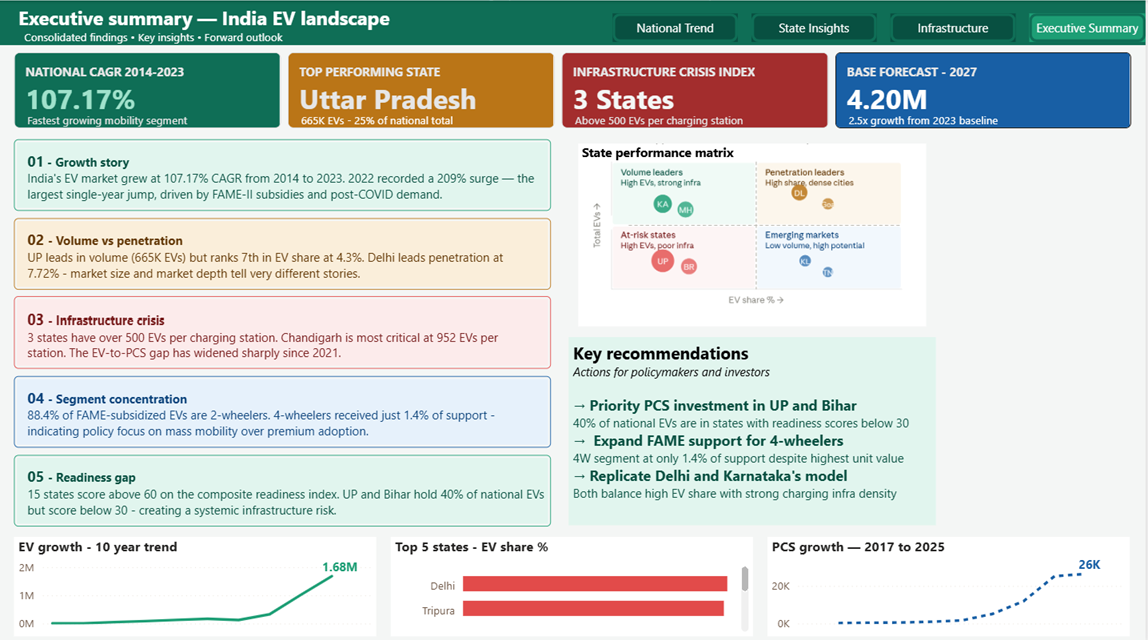

The dashboard page shown, as its layout file describes it:
{"tool":"powerbi","page":{"name":"Executive Summary","canvas":[1280,720],"ordinal":3},"visuals":[{"type":"shape","box":[0,0,1280,50],"z":0},{"type":"textbox","box":[16,0,880,80],"z":1000},{"type":"actionButton","box":[685,14,140,32],"z":2000},{"type":"actionButton","box":[840,14,140,32],"z":3000},{"type":"actionButton","box":[995,14,140,32],"z":4000},{"type":"actionButton","box":[1150,14,130,32],"z":5000},{"type":"cardVisual","fields":{"Data":["Year-wise EV Registrations.EV CAGR %"]},"box":[16,58,298,85],"z":6000},{"type":"textbox","box":[26,120,288,50],"z":7000},{"type":"cardVisual","fields":{"Data":["EV Share %.Top EV State"]},"box":[322,58,298,85],"z":8000},{"type":"cardVisual","fields":{"Data":["EV Share %.Critical Overload States"]},"box":[628,58,298,85],"z":9000},{"type":"textbox","box":[332,120,216,40],"z":10000},{"type":"textbox","box":[638,120,224,48],"z":11000},{"type":"cardVisual","fields":{"Data":["Forecast_Scenarios.Forecast Base 2027"]},"box":[934,58,330,85],"z":12000},{"type":"textbox","box":[944,120,200,32],"z":13000},{"type":"shape","box":[16,155,600,80],"z":14000},{"type":"textbox","box":[26,163,580,80],"z":15000},{"type":"shape","box":[16,243,600,80],"z":16000},{"type":"textbox","box":[26,251,580,72],"z":17000},{"type":"shape","box":[16,331,600,80],"z":18000},{"type":"textbox","box":[26,339,580,75],"z":19000},{"type":"shape","box":[16,419,600,80],"z":20000},{"type":"textbox","box":[26,427,580,72],"z":21000},{"type":"shape","box":[16,507,600,80],"z":22000},{"type":"textbox","box":[26,515,592,80],"z":23000},{"type":"image","box":[512,155,656,208],"z":24000},{"type":"textbox","box":[645,155,624,32],"z":25000},{"type":"textbox","box":[635,375,410,210],"z":26000},{"type":"textbox","box":[22,27,336,48],"z":27000},{"type":"lineChart","title":"EV growth - 10 year trend","fields":{"Category":["Year-wise EV Registrations.Year"],"Y":["Year-wise EV Registrations.Total EVs"]},"box":[16,599,405,111],"z":28000},{"type":"clusteredBarChart","title":"Top 5 states - EV share %","fields":{"Category":["EV Share %.State"],"Y":["Sum(EV Share %.EV_Share_Percent)"]},"box":[437,599,405,111],"z":29000},{"type":"lineChart","title":"PCS growth — 2017 to 2025","fields":{"Category":["Year-wise EVPCS.Year"],"Y":["Sum(Year-wise EVPCS.PCS_Total)"]},"box":[858,599,405,111],"z":30000},{"type":"textbox","box":[1200,615,80,48],"z":31000},{"type":"textbox","box":[355,618,80,48],"z":32000}]}

Visuals, with their boxes in screenshot pixels (x1, y1, x2, y2), scaled from the page's 1280x720 canvas onto the 1148x640 screenshot:
shape: <bbox>0, 0, 1147, 44</bbox>
textbox: <bbox>14, 0, 804, 71</bbox>
actionButton: <bbox>614, 12, 740, 41</bbox>
actionButton: <bbox>753, 12, 879, 41</bbox>
actionButton: <bbox>892, 12, 1018, 41</bbox>
actionButton: <bbox>1031, 12, 1147, 41</bbox>
cardVisual - Year-wise EV Registrations.EV CAGR %: <bbox>14, 52, 282, 127</bbox>
textbox: <bbox>23, 107, 282, 151</bbox>
cardVisual - EV Share %.Top EV State: <bbox>289, 52, 556, 127</bbox>
cardVisual - EV Share %.Critical Overload States: <bbox>563, 52, 831, 127</bbox>
textbox: <bbox>298, 107, 491, 142</bbox>
textbox: <bbox>572, 107, 773, 149</bbox>
cardVisual - Forecast_Scenarios.Forecast Base 2027: <bbox>838, 52, 1134, 127</bbox>
textbox: <bbox>847, 107, 1026, 135</bbox>
shape: <bbox>14, 138, 552, 209</bbox>
textbox: <bbox>23, 145, 544, 216</bbox>
shape: <bbox>14, 216, 552, 287</bbox>
textbox: <bbox>23, 223, 544, 287</bbox>
shape: <bbox>14, 294, 552, 365</bbox>
textbox: <bbox>23, 301, 544, 368</bbox>
shape: <bbox>14, 372, 552, 444</bbox>
textbox: <bbox>23, 380, 544, 444</bbox>
shape: <bbox>14, 451, 552, 522</bbox>
textbox: <bbox>23, 458, 554, 529</bbox>
image: <bbox>459, 138, 1048, 323</bbox>
textbox: <bbox>578, 138, 1138, 166</bbox>
textbox: <bbox>570, 333, 937, 520</bbox>
textbox: <bbox>20, 24, 321, 67</bbox>
"EV growth - 10 year trend" lineChart: <bbox>14, 532, 378, 631</bbox>
"Top 5 states - EV share %" clusteredBarChart: <bbox>392, 532, 755, 631</bbox>
"PCS growth — 2017 to 2025" lineChart: <bbox>770, 532, 1133, 631</bbox>
textbox: <bbox>1076, 547, 1147, 589</bbox>
textbox: <bbox>318, 549, 390, 592</bbox>
